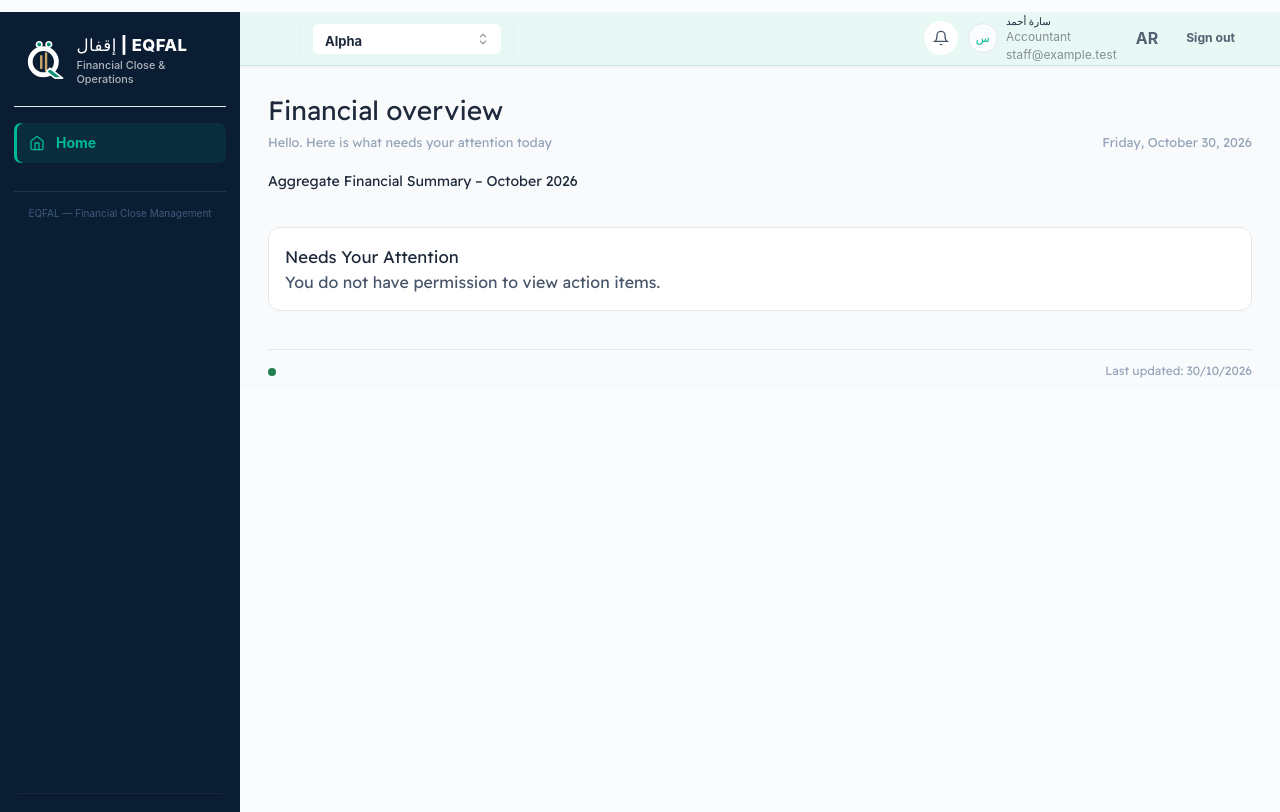
it: header user identity › refreshes the role when switching companies
Expected: the text "Accountant" is shown, [1006,29,1071,44]
Select "Beta" in the dropdown named "Switch active company" at {"x": 407, "y": 38}, box [313,24,501,54]
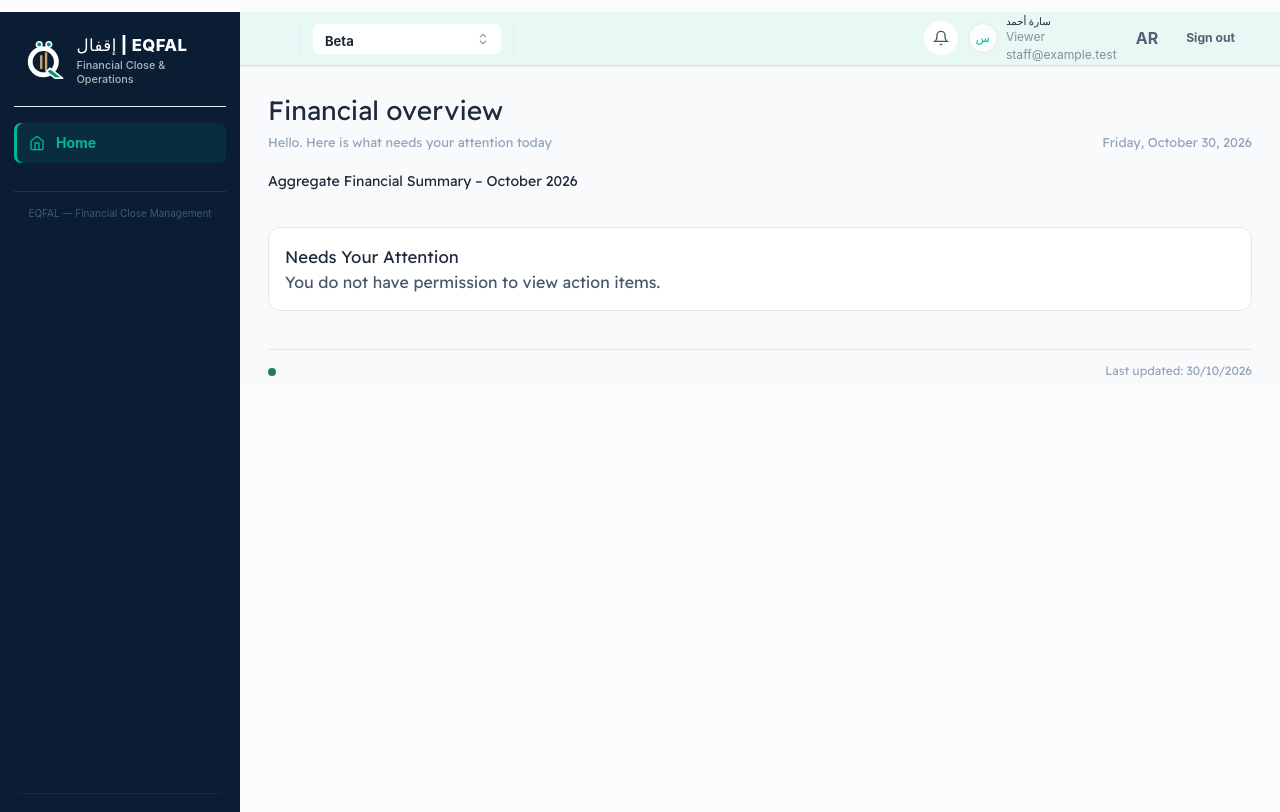
Result: the text "Viewer" is shown at [1006,29,1045,44]
